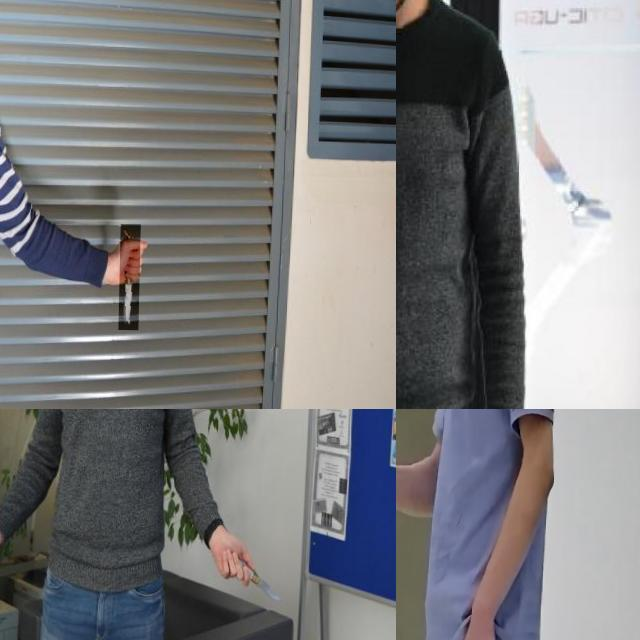-: (396, 292, 427, 409), (236, 550, 288, 605), (120, 223, 142, 329), (0, 545, 45, 584)
gun-knife-thesis - v11 Yolov5 augmented: (396, 409, 443, 516)
